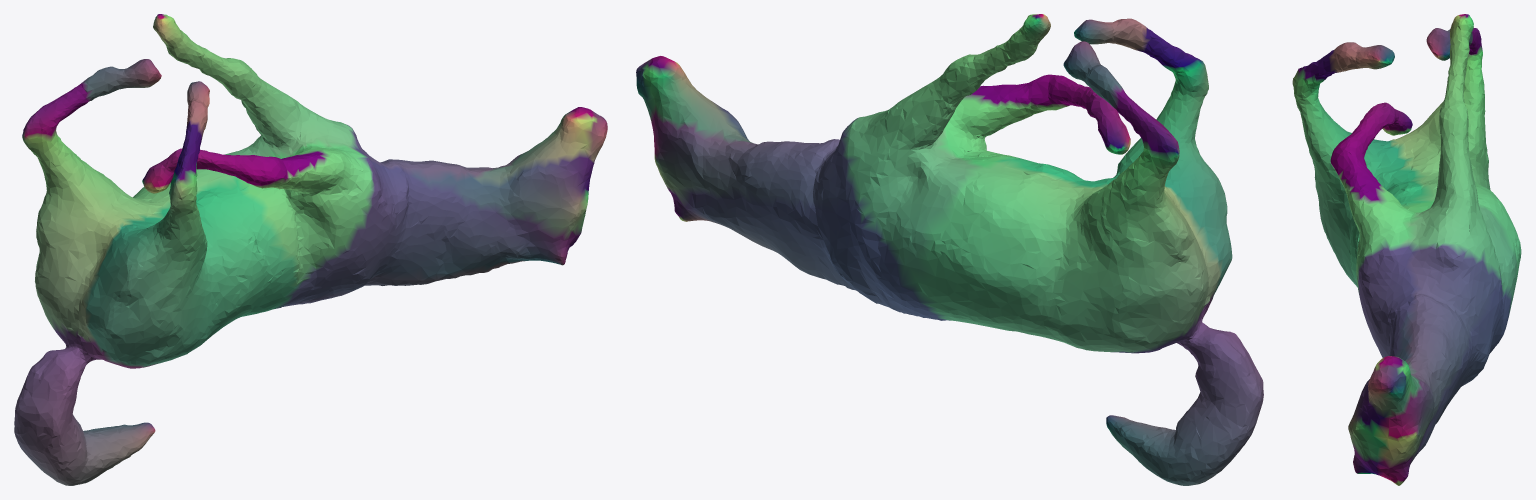
Rendered from horse-9.off.obj.
3 views of the same model, side by side, from view 1: azimuth 30°, elevation 25°; view 2: azimuth 150°, elevation 25°; view 3: azimuth 270°, elevation 25° (orthographic). The views are drawn at different scales.
Size of the model in its own units: 1.5 by 1.04 by 0.518.
